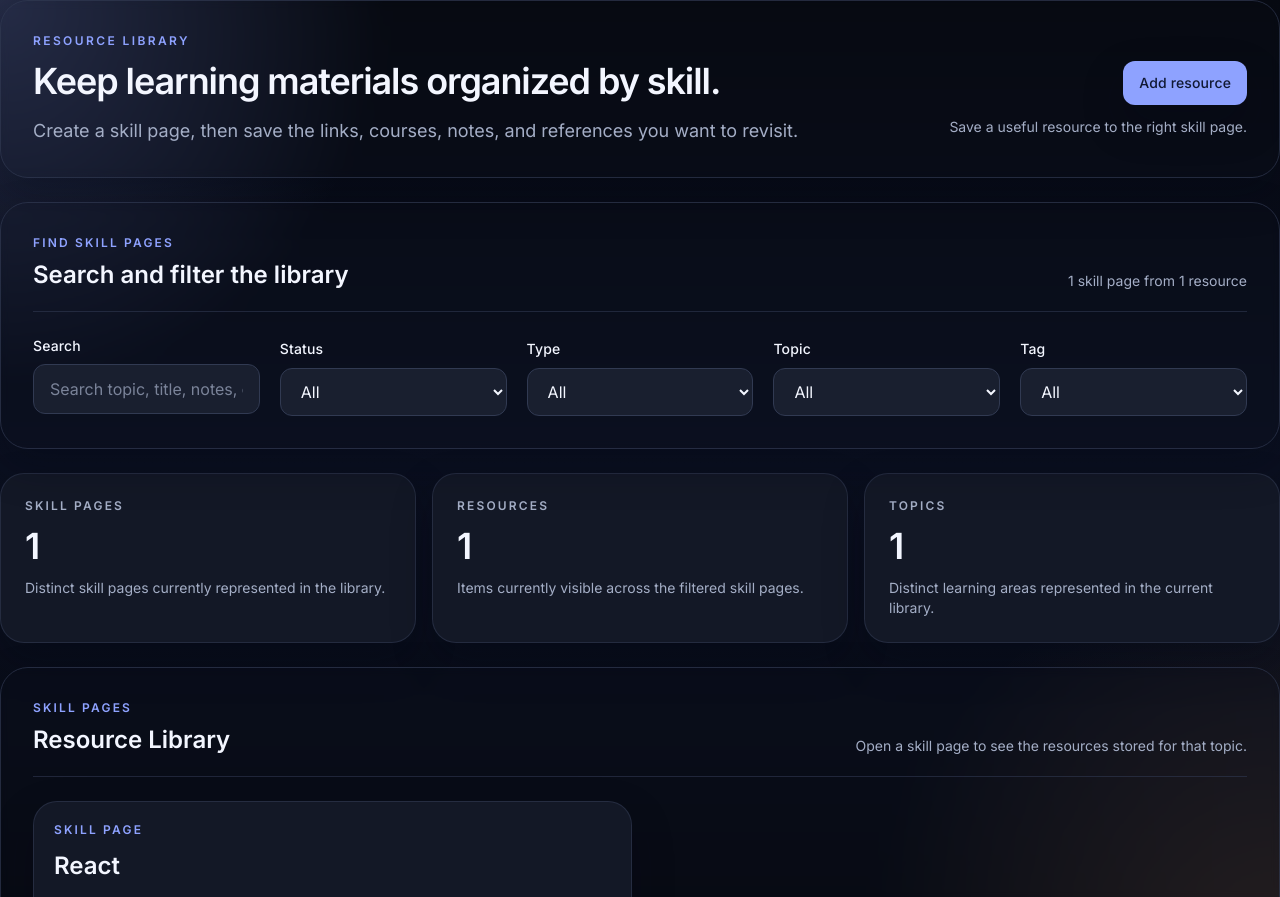
Test case: ResourcesPage › shows a no-match state when filters exclude every skill page
Expected: the heading "Resource Library" is shown, [33,724,230,756]
Type "python" into the field labelled "Search" at (146, 389), box [33,364,260,414]
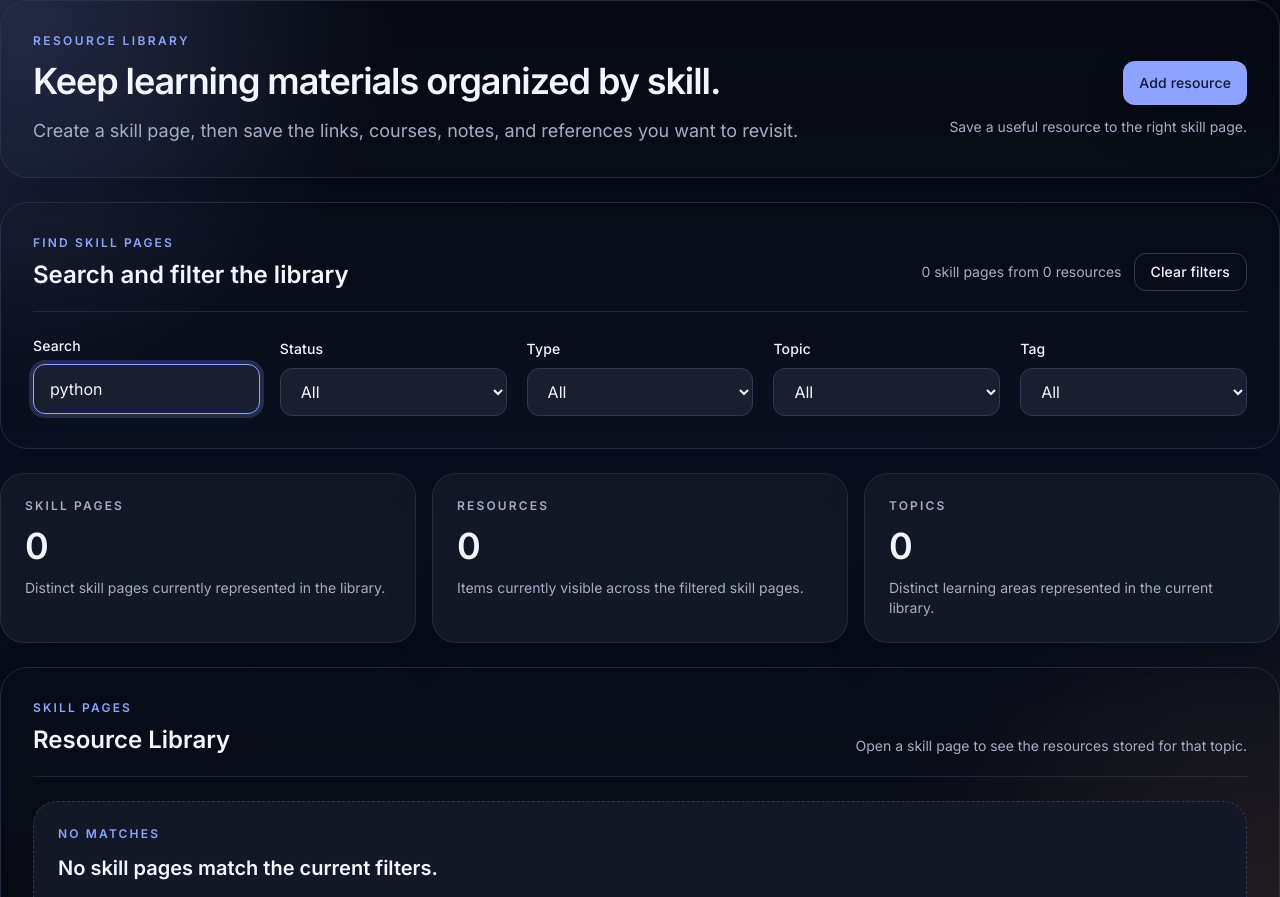
Now the heading "No skill pages match the current filters." is shown, box [58,856,438,880]
Now the link "React" is gone
